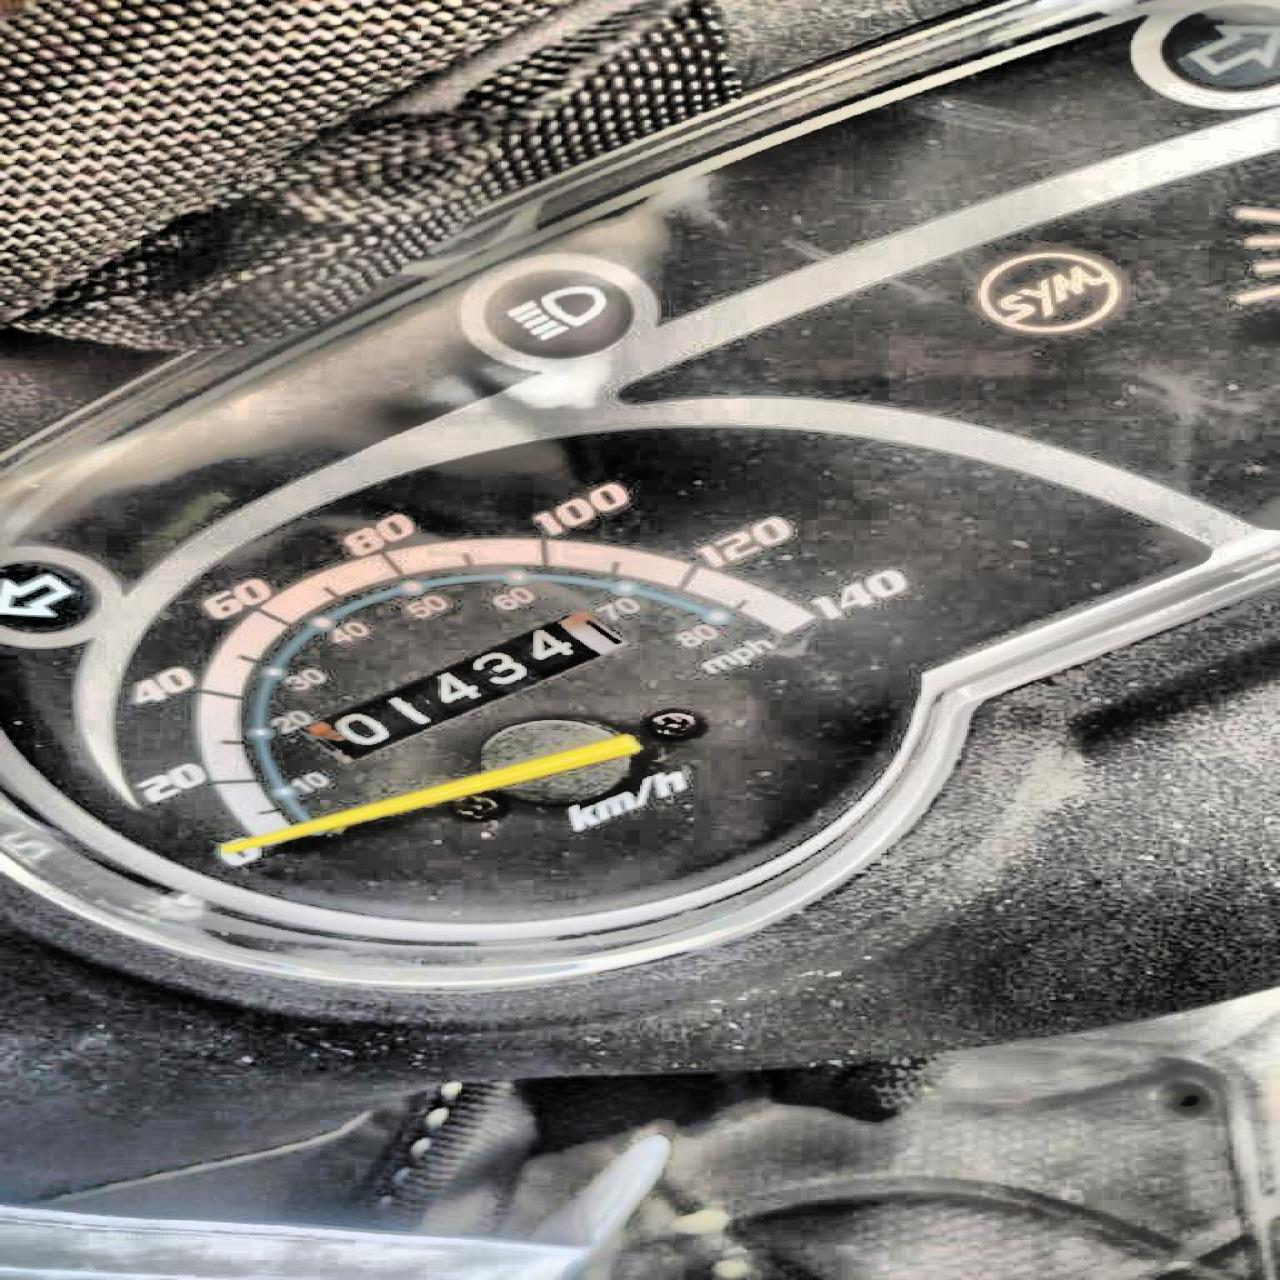0: (333, 710, 392, 745), (340, 620, 369, 636), (298, 667, 327, 682), (285, 710, 308, 724)
1: (377, 694, 436, 728), (573, 615, 622, 649)
2: (268, 716, 295, 733)
3: (469, 653, 531, 683), (280, 675, 307, 693)
4: (517, 625, 576, 661), (422, 670, 482, 704), (327, 627, 353, 645)
5: (402, 600, 431, 619)
7: (593, 602, 618, 619)
odometer: (280, 605, 645, 761)
